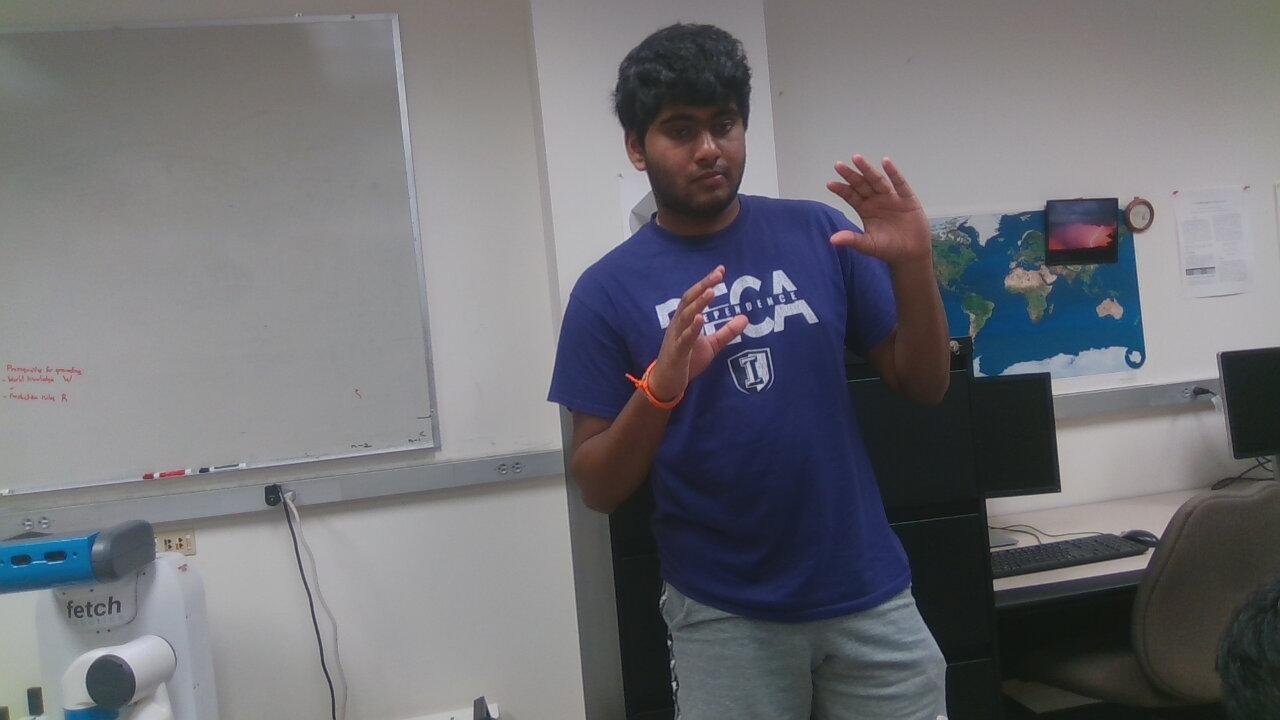hands: (811, 142, 942, 276), (636, 259, 757, 400)
